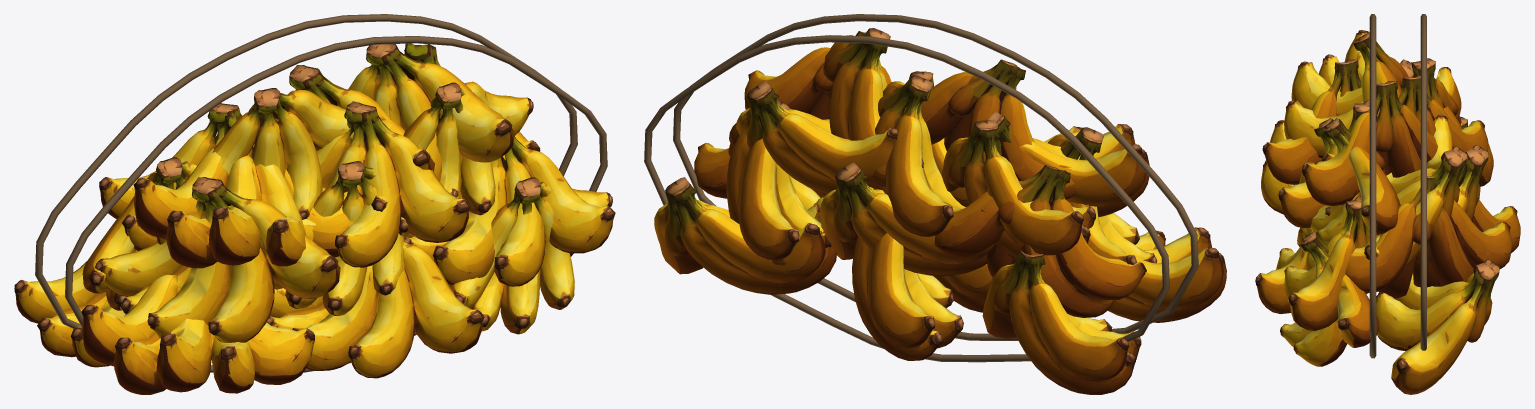
The model's file is bananaRack.glb.
The picture shows the model from 3 angles, left to right: view 1: azimuth 30°, elevation 25°; view 2: azimuth 150°, elevation 25°; view 3: azimuth 270°, elevation 25°; orthographic projection. The views are drawn at different scales.
Visible parts, largest first — view 1: CargoBundle07, CargoBundle01, CargoBundle00, CargoBundle13, CargoBundle12, CargoTieDownMesh, CargoBundle08, CargoBundle18, CargoBundle19, CargoBundle02, CargoBundle14, CargoBundle06 (+5 smaller); view 2: CargoTieDownMesh, CargoBundle04, CargoBundle10, CargoBundle05, CargoBundle03, CargoBundle17, CargoBundle16, CargoBundle15, CargoBundle11, CargoBundle09, CargoBundle18, CargoBundle01 (+7 smaller); view 3: CargoBundle05, CargoBundle11, CargoBundle19, CargoTieDownMesh, CargoBundle08, CargoBundle02, CargoBundle13, CargoBundle14, CargoBundle17, CargoBundle07, CargoBundle15, CargoBundle12 (+9 smaller).
Boxes of the visible parts, bbox=[...] form: CargoBundle07: bbox=[94, 177, 340, 342]; CargoBundle01: bbox=[81, 274, 314, 394]; CargoBundle00: bbox=[266, 241, 484, 378]; CargoBundle13: bbox=[133, 115, 354, 268]; CargoBundle12: bbox=[302, 101, 470, 267]; CargoTieDownMesh: bbox=[35, 14, 607, 372]; CargoBundle08: bbox=[404, 136, 615, 286]; CargoBundle18: bbox=[183, 88, 353, 219]; CargoBundle19: bbox=[348, 44, 514, 180]; CargoBundle02: bbox=[448, 177, 612, 334]; CargoBundle14: bbox=[371, 81, 533, 236]; CargoBundle06: bbox=[273, 161, 458, 315]; CargoTieDownMesh: bbox=[644, 14, 1198, 362]; CargoBundle04: bbox=[982, 249, 1141, 394]; CargoBundle10: bbox=[934, 165, 1146, 317]; CargoBundle05: bbox=[654, 177, 836, 294]; CargoBundle03: bbox=[852, 233, 963, 360]; CargoBundle17: bbox=[736, 81, 897, 194]; CargoBundle16: bbox=[941, 120, 1095, 260]; CargoBundle15: bbox=[873, 75, 965, 236]; CargoBundle11: bbox=[726, 99, 831, 265]; CargoBundle09: bbox=[816, 162, 996, 276]; CargoBundle18: bbox=[903, 59, 1075, 199]; CargoBundle01: bbox=[1107, 227, 1226, 322]; CargoBundle05: bbox=[1376, 259, 1499, 394]; CargoBundle11: bbox=[1345, 176, 1512, 298]; CargoBundle19: bbox=[1302, 81, 1437, 206]; CargoTieDownMesh: bbox=[1369, 14, 1426, 358]; CargoBundle08: bbox=[1284, 196, 1378, 330]; CargoBundle02: bbox=[1280, 231, 1378, 366]; CargoBundle13: bbox=[1284, 30, 1414, 158]; CargoBundle14: bbox=[1310, 118, 1400, 244]; CargoBundle17: bbox=[1364, 114, 1467, 268]; CargoBundle07: bbox=[1262, 59, 1361, 184]; CargoBundle15: bbox=[1322, 75, 1488, 161]; CargoBundle12: bbox=[1278, 100, 1369, 228].
Size of the model in its own units: 1.16 by 0.6564 by 0.575.
2 materials, 1 textured.
